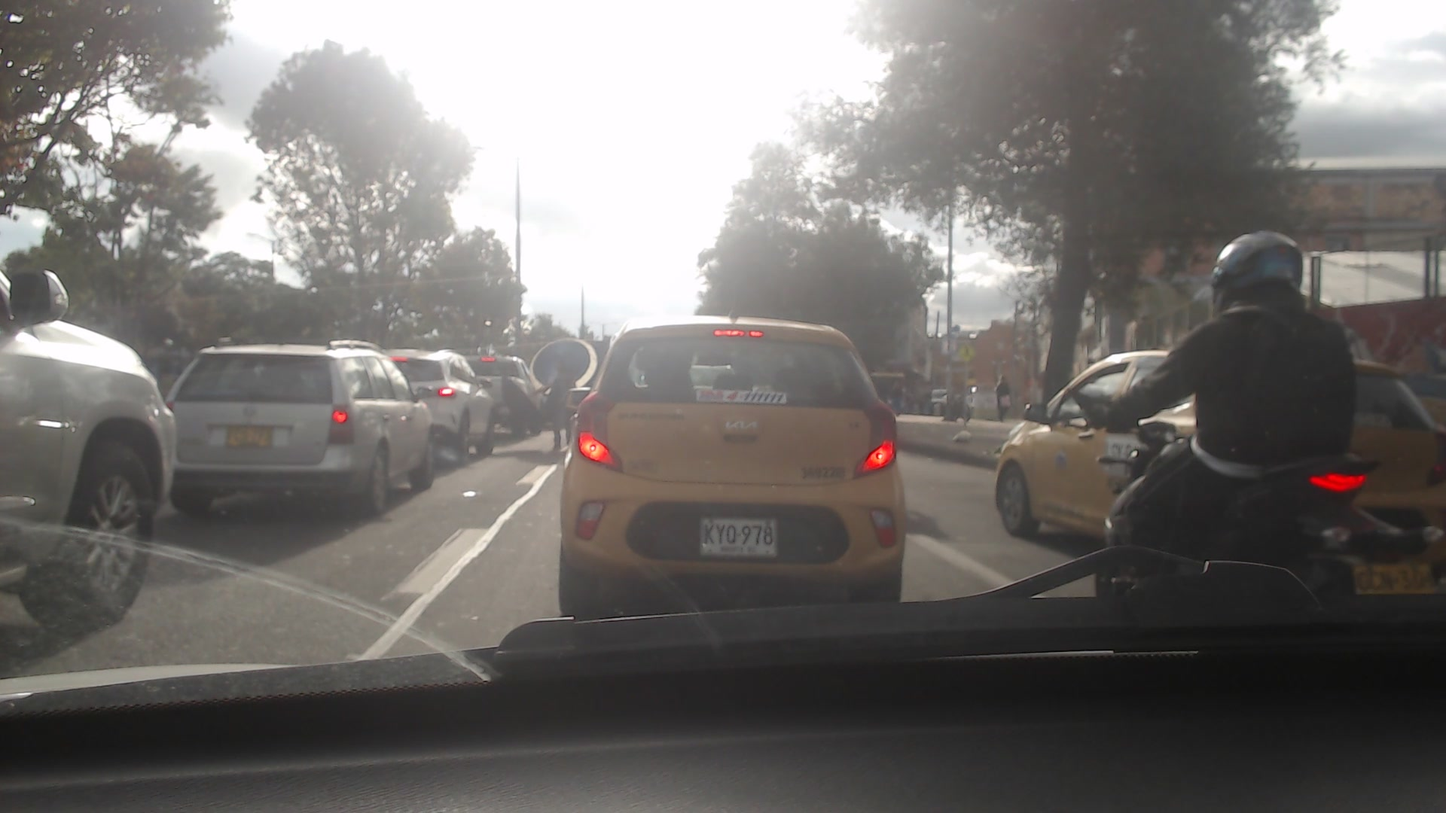car: (559, 313, 902, 606), (158, 344, 432, 503), (377, 347, 502, 459), (448, 347, 548, 437)
motorcycle: (1088, 423, 1439, 611)
person: (1139, 228, 1357, 577)
